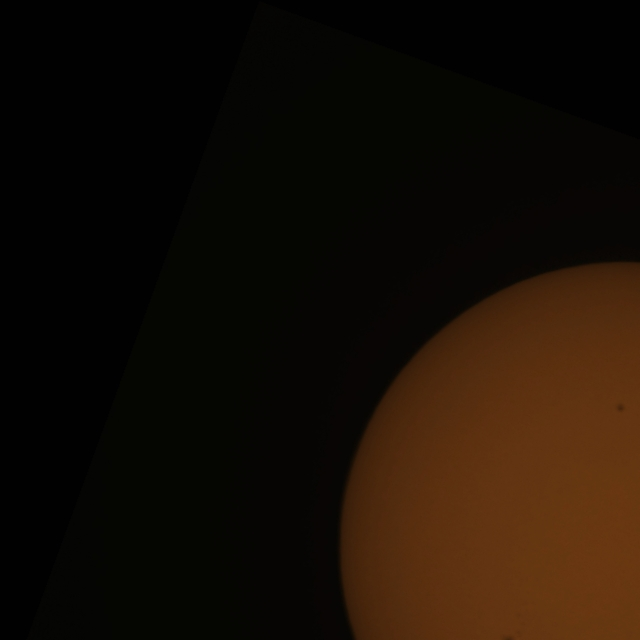sunspot: (496, 630, 527, 640), (614, 401, 627, 414)
